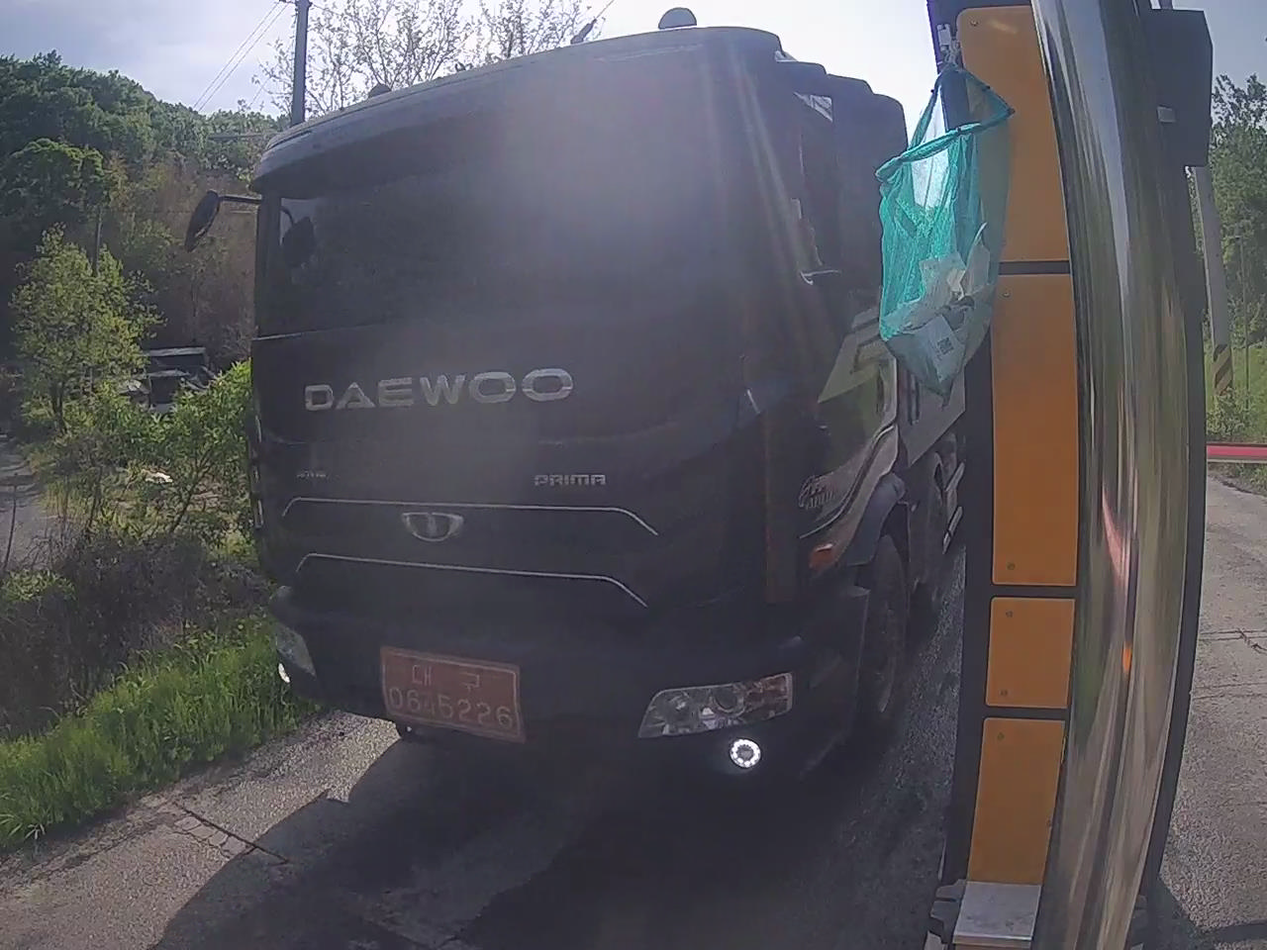license_plate: (381, 648, 522, 740)
truck: (250, 28, 963, 774)
